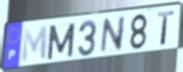3: (77, 18, 98, 58)
8: (129, 12, 150, 53)
M: (46, 22, 77, 62), (21, 24, 49, 65)
N: (99, 14, 127, 55)
T: (157, 10, 176, 48)
